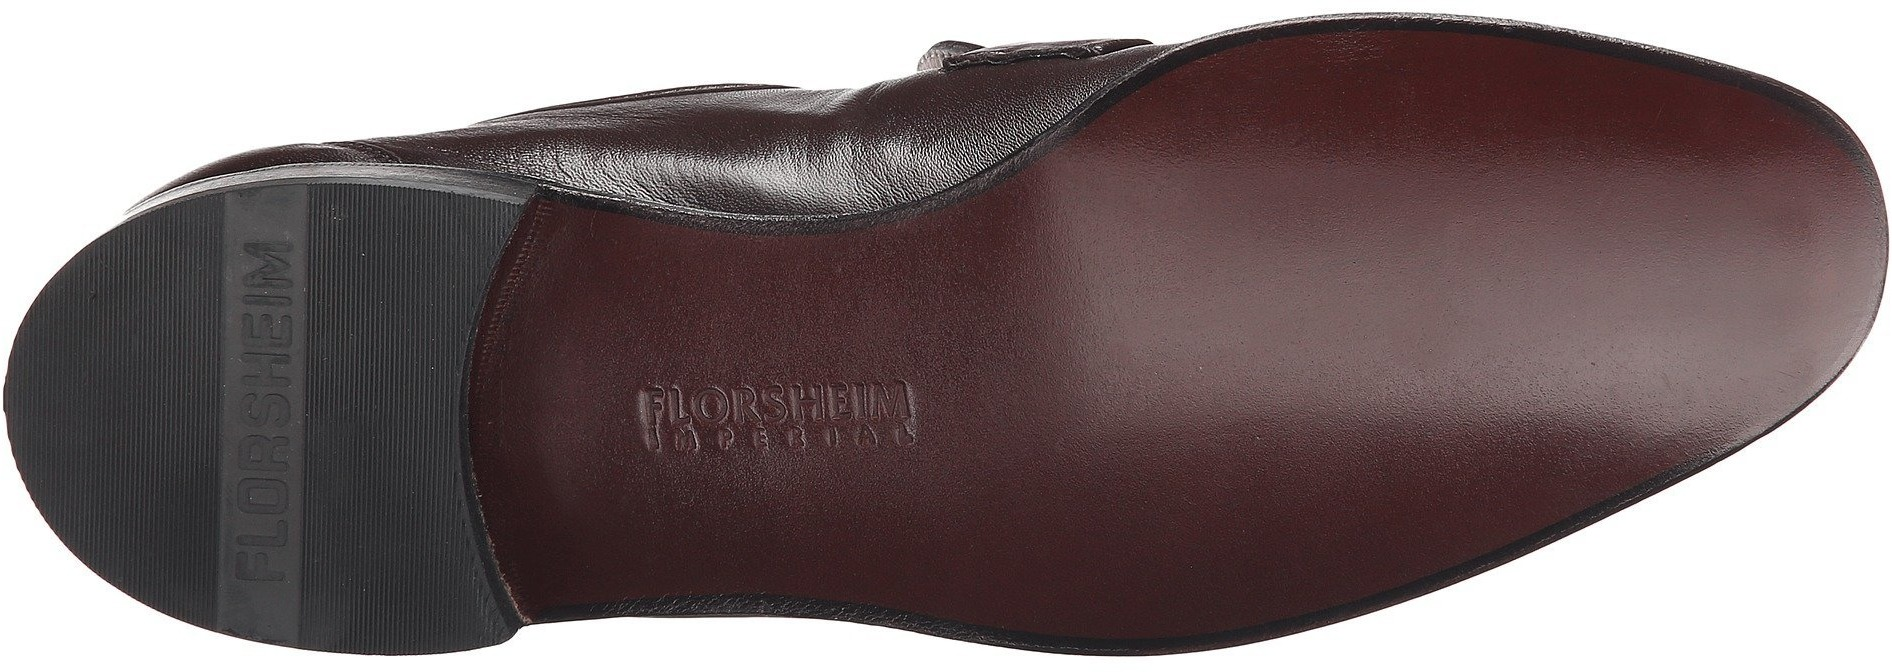exclude: (456, 194, 611, 624)
other: (940, 21, 1884, 639), (988, 193, 1345, 597), (1339, 68, 1682, 473), (298, 185, 522, 655), (13, 186, 232, 635), (1687, 146, 1870, 335)
text: (565, 312, 964, 509), (221, 188, 306, 631)
